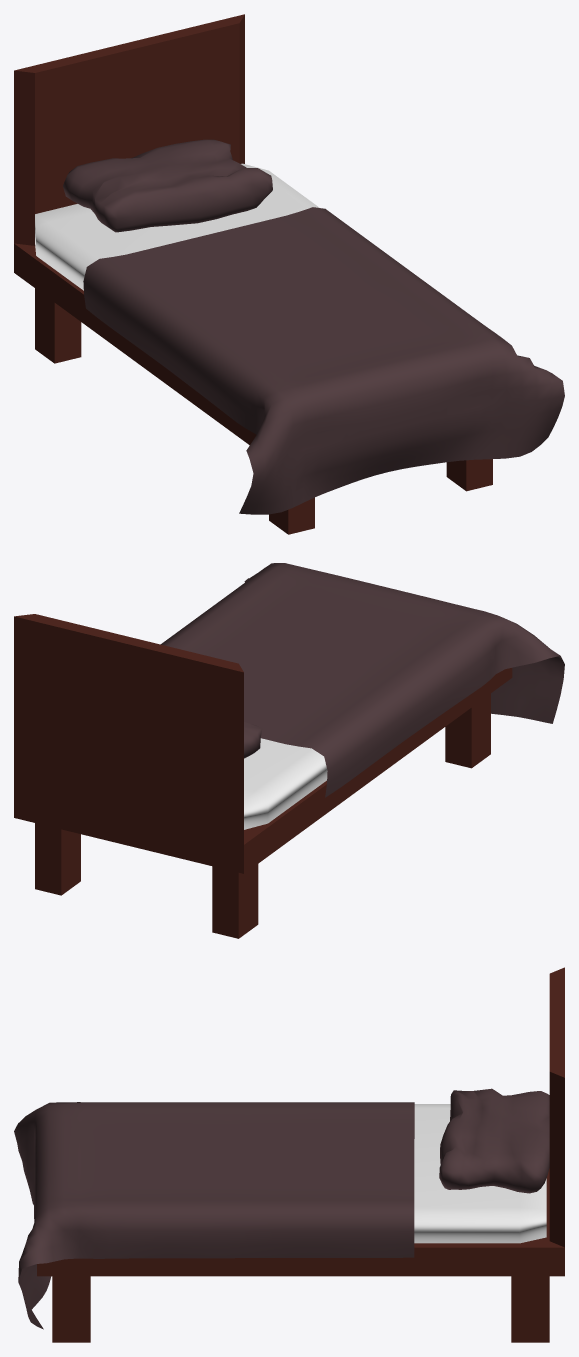
Rendered from CAMAZumbi.fbx.
3 renders of one model, top to bottom at view 1: azimuth 30°, elevation 25°; view 2: azimuth 150°, elevation 25°; view 3: azimuth 270°, elevation 25°, orthographic.
Parts seen in each view (by area): view 1: Plane.001, Plane, Cube.001, Cube; view 2: Plane, Plane.001, Cube, Cube.001; view 3: Plane.001, Plane, Cube.001, Cube.
Part boxes in pixels (x1=…): Plane.001: x1=83, y1=207, x2=564, y2=514; Plane: x1=14, y1=14, x2=492, y2=534; Cube.001: x1=63, y1=139, x2=272, y2=232; Cube: x1=35, y1=163, x2=319, y2=290; Plane: x1=14, y1=614, x2=512, y2=938; Plane.001: x1=160, y1=563, x2=564, y2=797; Cube: x1=244, y1=738, x2=327, y2=829; Cube.001: x1=244, y1=722, x2=262, y2=758; Plane.001: x1=14, y1=1102, x2=414, y2=1329; Plane: x1=37, y1=967, x2=564, y2=1342; Cube.001: x1=439, y1=1088, x2=549, y2=1193; Cube: x1=414, y1=1104, x2=546, y2=1243.
Bounding box in the file's own units: 837 × 702 × 1292.
